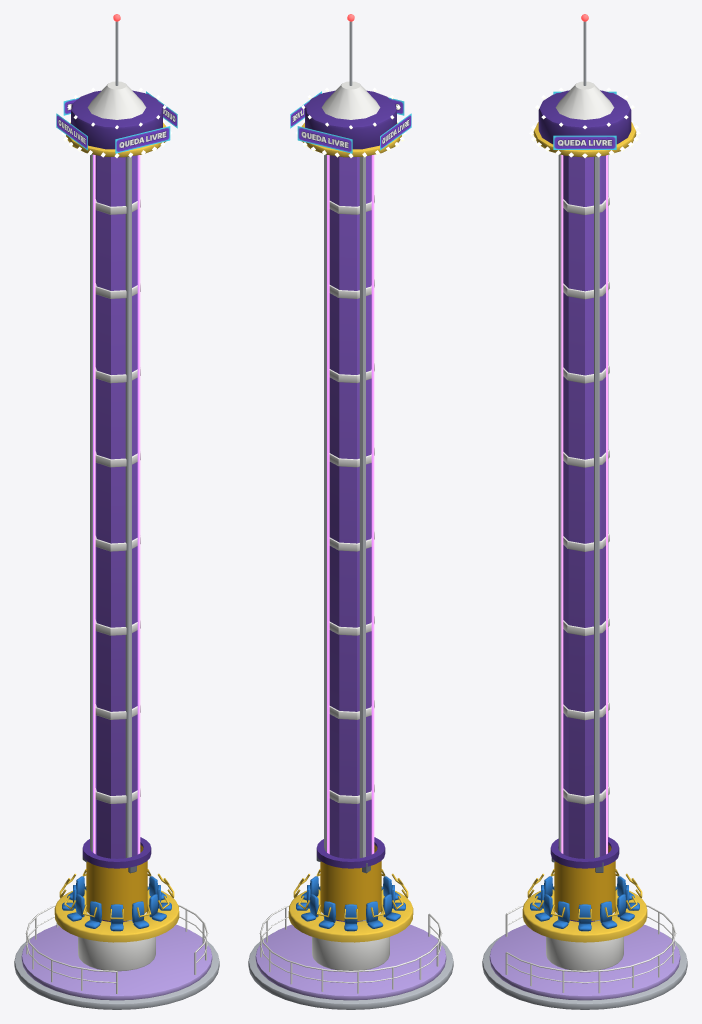
Rendered from torre_queda.glb.
3 renders of one model, left to right at view 1: azimuth 30°, elevation 25°; view 2: azimuth 150°, elevation 25°; view 3: azimuth 270°, elevation 25°, orthographic.
Visible parts, largest first — view 1: torre_queda, gondola, elevador; view 2: torre_queda, gondola, elevador; view 3: torre_queda, gondola, elevador, lampadas.
Boxes of the visible parts, left/top/right/bottom form: torre_queda: left=14, top=21, right=219, bottom=1009; gondola: left=54, top=869, right=179, bottom=942; elevador: left=82, top=837, right=151, bottom=920; torre_queda: left=248, top=21, right=453, bottom=1009; gondola: left=288, top=869, right=413, bottom=942; elevador: left=316, top=837, right=385, bottom=920; torre_queda: left=482, top=21, right=687, bottom=1009; gondola: left=522, top=869, right=647, bottom=942; elevador: left=550, top=837, right=619, bottom=920; lampadas: left=529, top=14, right=640, bottom=157.
Bounding box in the file's own units: 8.4 × 43.01 × 8.4.
Materials: 5 (2 with a texture image).
